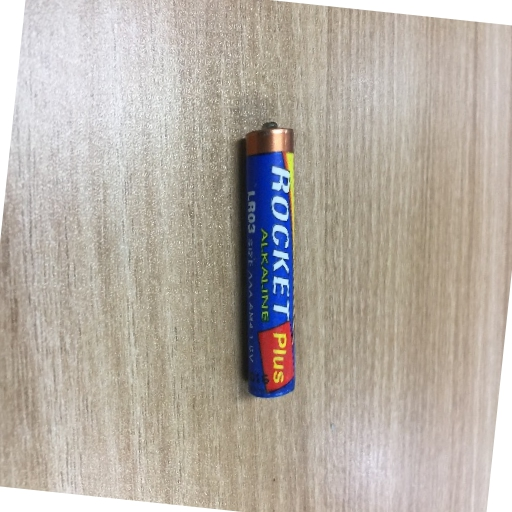Battery_0: (225, 106, 312, 411)
